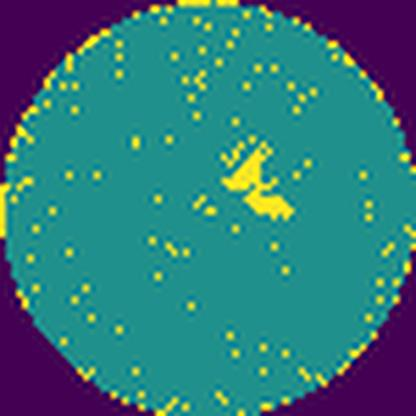Loc: (225, 141, 297, 224)
